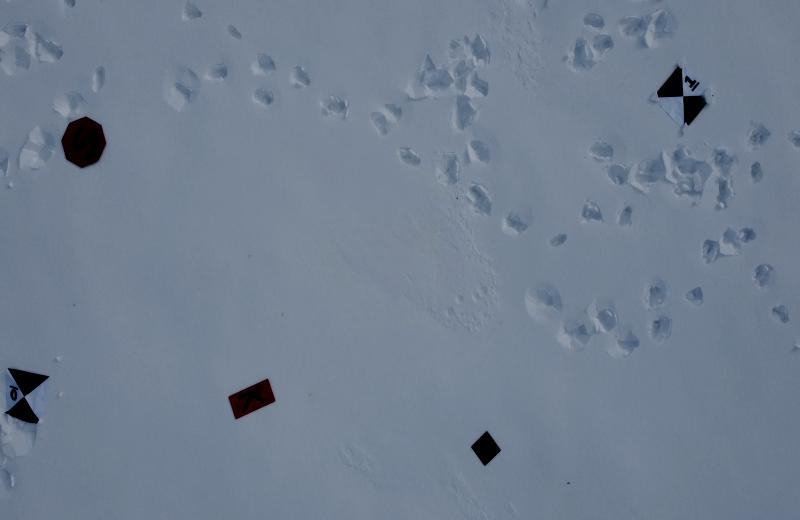Octagon: (60, 116, 108, 170)
Rectangle: (228, 377, 276, 419)
Square: (471, 432, 501, 467)
